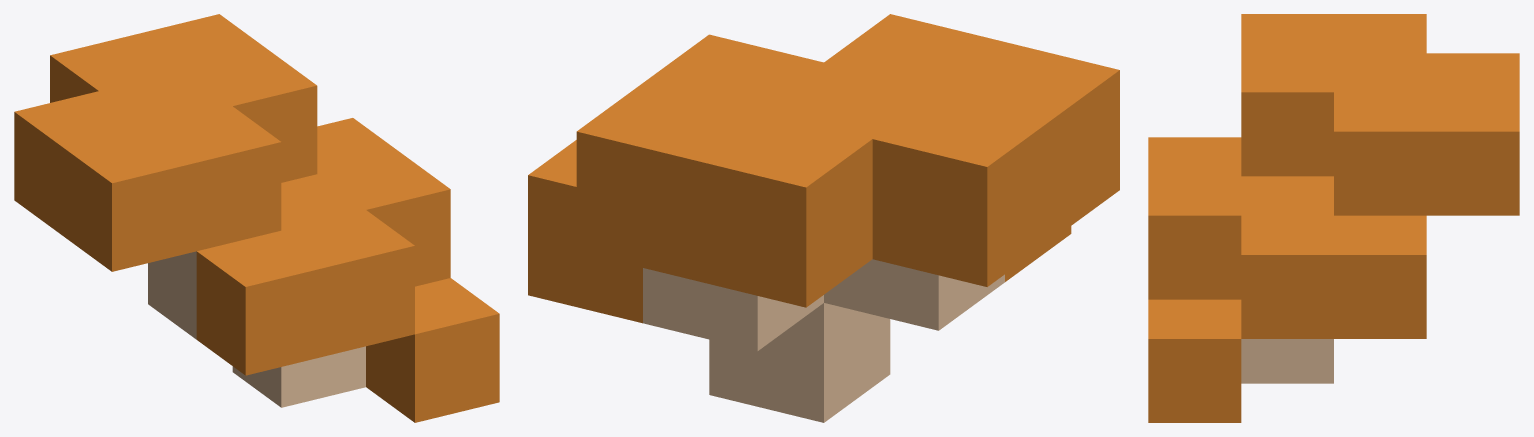
File: tile-39.obj
3 renders of one model, left to right at view 1: azimuth 30°, elevation 25°; view 2: azimuth 150°, elevation 25°; view 3: azimuth 270°, elevation 25°, orthographic. The views are drawn at different scales.
Size of the model in its own units: 0.4 by 0.3 by 0.4.
Materials: 1 (1 with a texture image).
